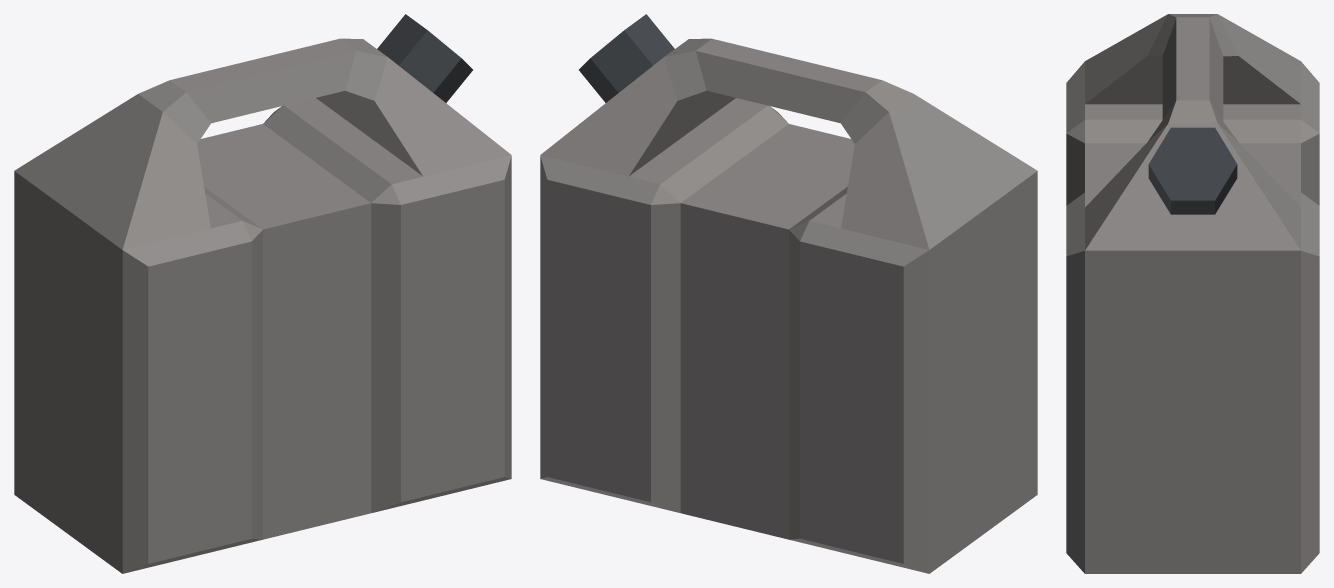
Rendered from SM_Prop_Container_01.fbx.
3 renders of one model, left to right at view 1: azimuth 30°, elevation 25°; view 2: azimuth 150°, elevation 25°; view 3: azimuth 270°, elevation 25°, orthographic.
Parts seen in each view (by area): view 1: SM_Prop_Container_01; view 2: SM_Prop_Container_01; view 3: SM_Prop_Container_01.
Part boxes in pixels (x1,y1,x2,y2): SM_Prop_Container_01: (14,14,511,573); SM_Prop_Container_01: (540,14,1037,573); SM_Prop_Container_01: (1066,14,1319,573).
Bounding box in the file's own units: 39.18 × 40.61 × 21.89.
